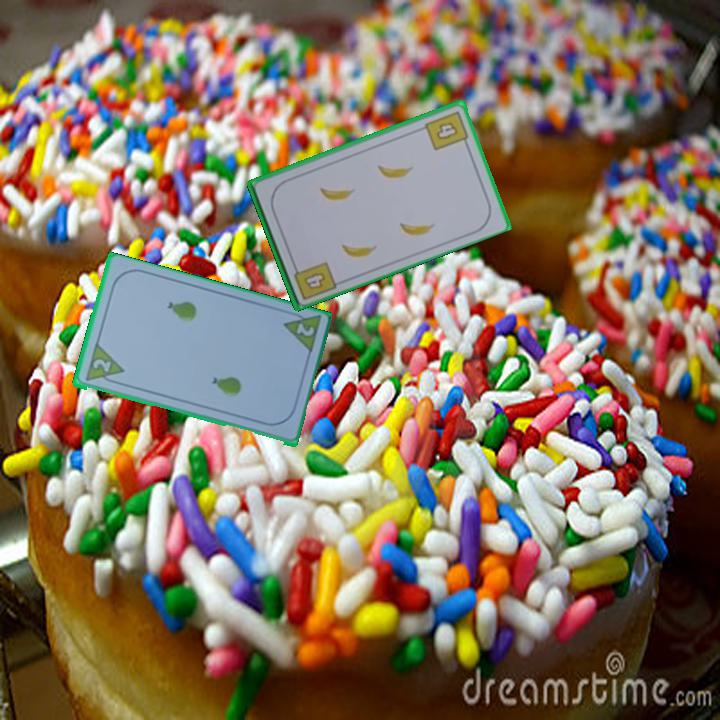2p: (292, 320, 317, 340), (89, 355, 113, 375)
4b: (421, 107, 471, 153), (289, 258, 339, 303)
